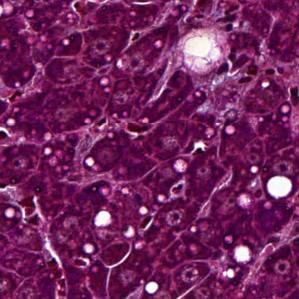ballooning: (176, 27, 231, 77)
